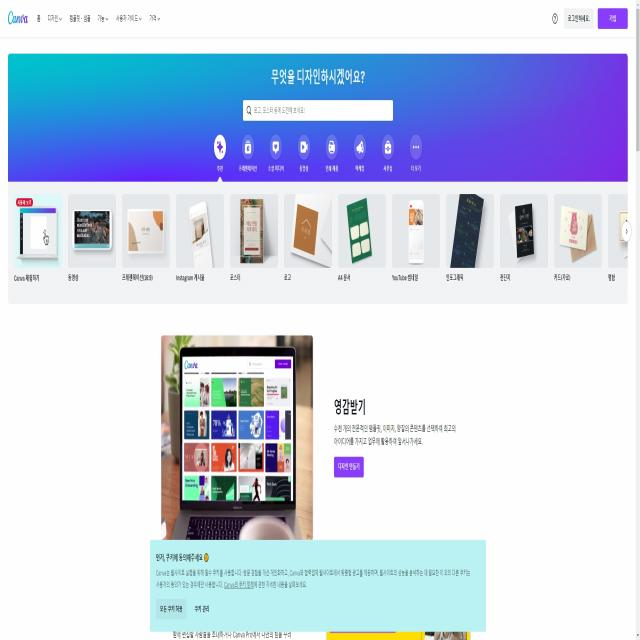menu-bar: (550, 7, 628, 33)
search: (242, 98, 395, 124)
tab-bar: (5, 5, 164, 33)
